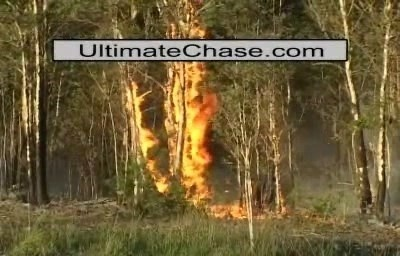fire: (160, 59, 216, 205), (116, 67, 165, 197), (163, 0, 208, 38), (210, 198, 248, 219)
